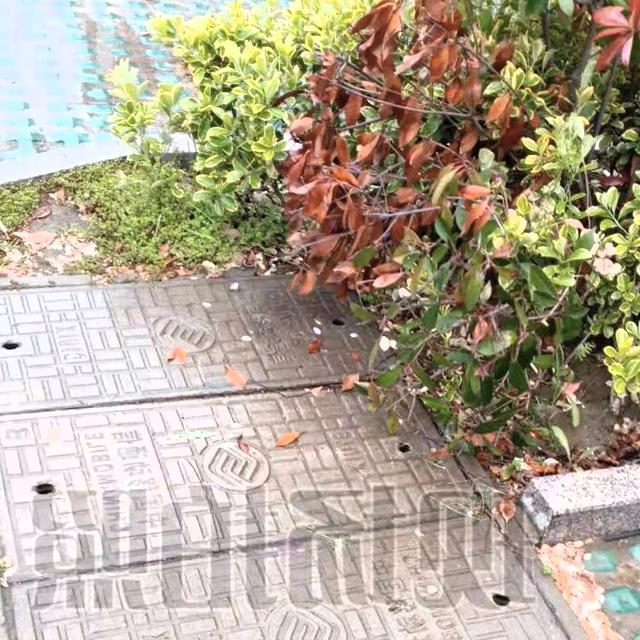good: (0, 275, 631, 640)
